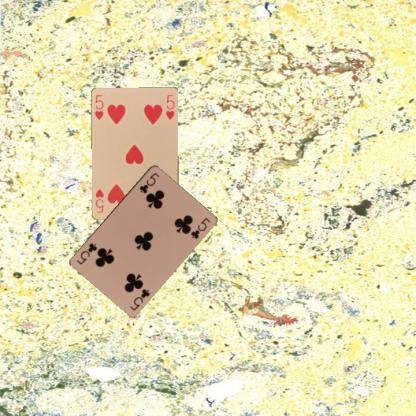5c: (136, 170, 161, 194), (127, 286, 151, 311)
5h: (92, 92, 104, 121)
